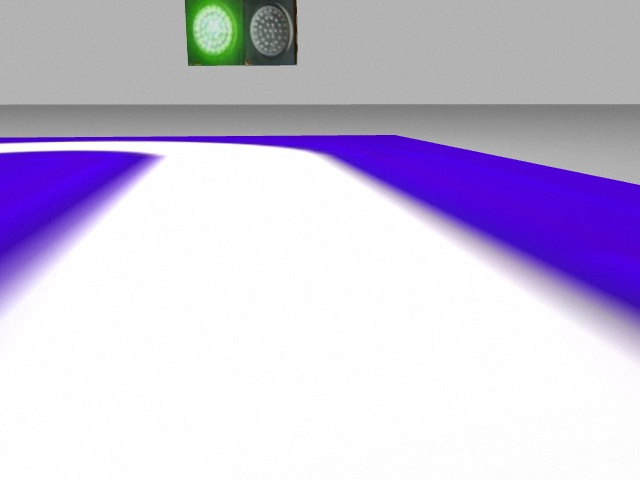green: (184, 2, 244, 65)
